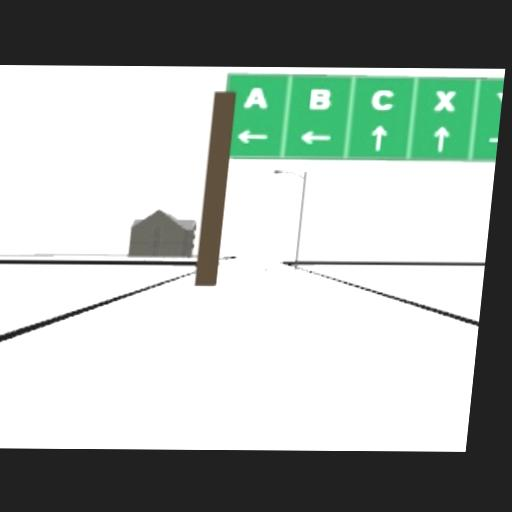A: (244, 84, 269, 108)
B: (308, 87, 331, 108)
C: (371, 87, 396, 108)
Left: (297, 129, 331, 144), (235, 129, 269, 143)
Right: (487, 132, 499, 146)
Straight: (370, 123, 389, 149), (433, 125, 449, 149)
X: (434, 88, 457, 109)
Y: (494, 90, 503, 111)
